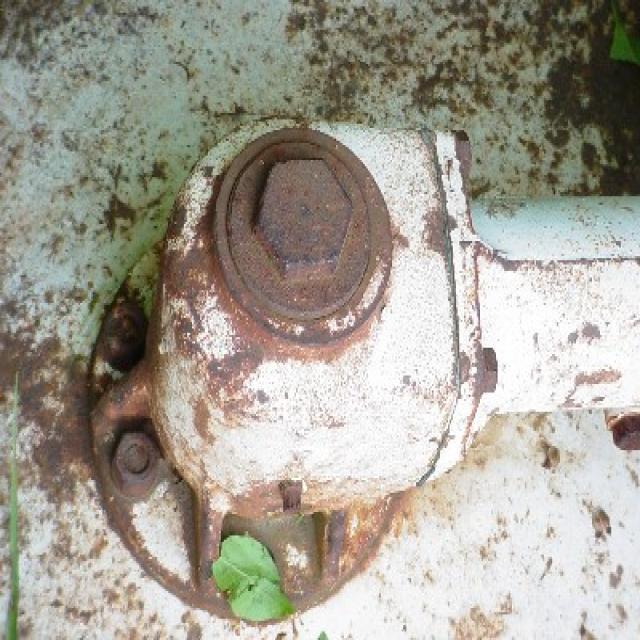blur bolt: (106, 424, 163, 504)
bolt head: (250, 152, 355, 280)
